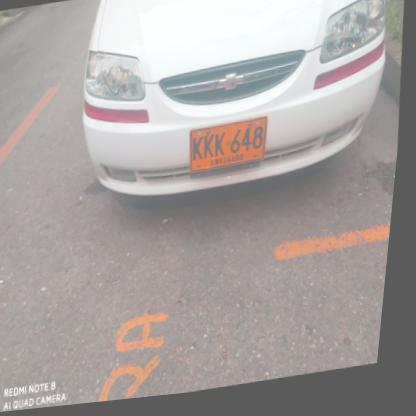placa: (186, 121, 276, 181)
